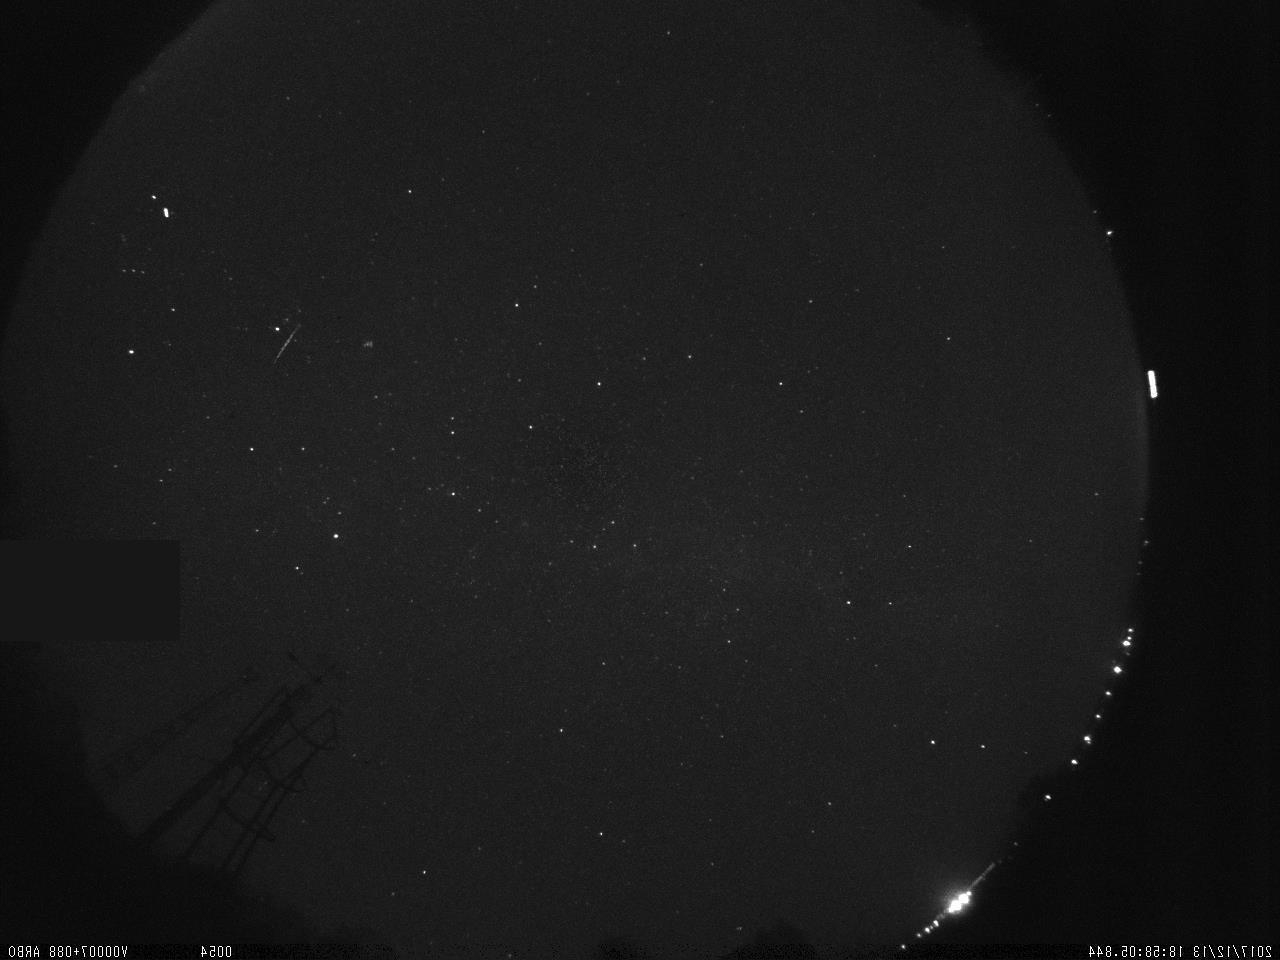meteor: (261, 312, 313, 369)
